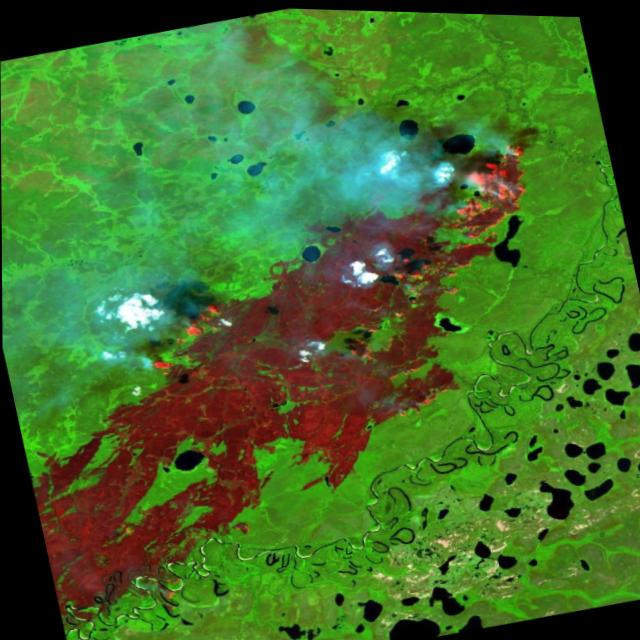fire: (330, 130, 586, 433), (129, 294, 238, 383)
